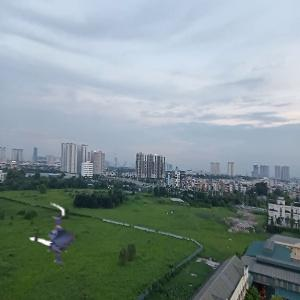drone: (22, 203, 90, 271)
